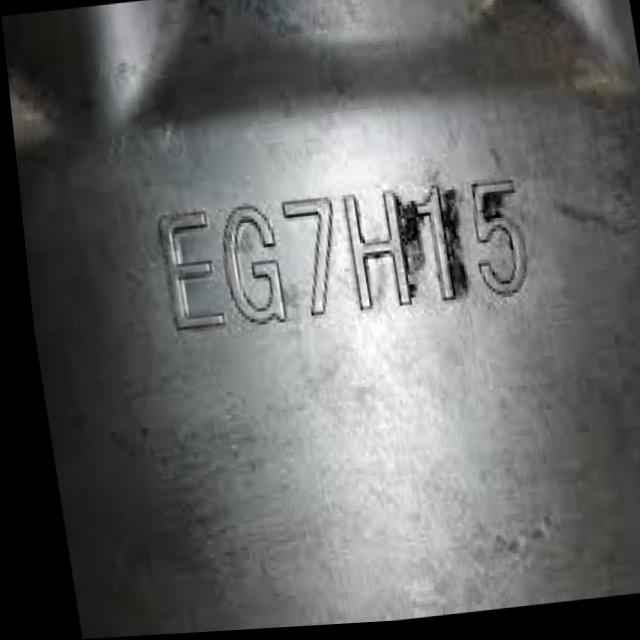ocr: (140, 174, 533, 349)
